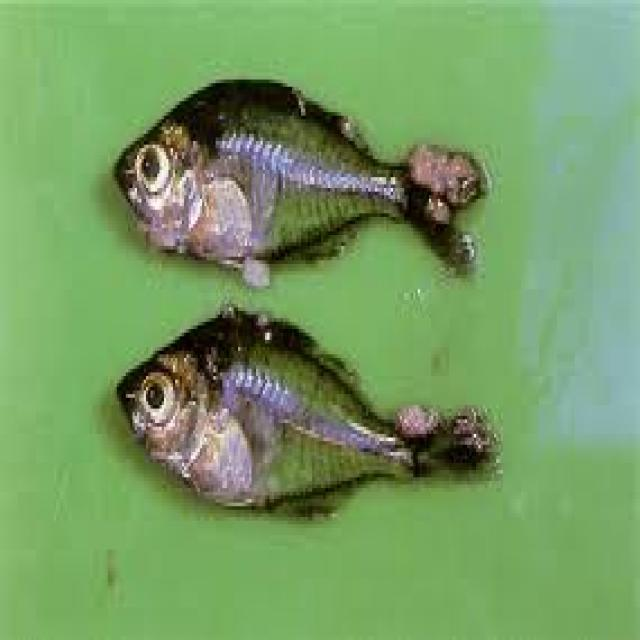EUS Disease: (114, 80, 502, 512), (116, 290, 330, 515), (123, 109, 284, 286), (389, 124, 534, 269), (373, 392, 502, 492)
